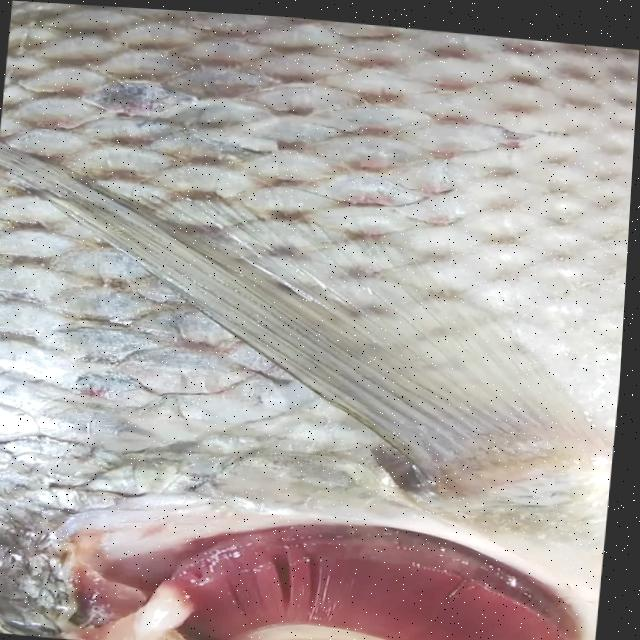Fresh: (0, 0, 640, 517), (66, 490, 611, 640)
